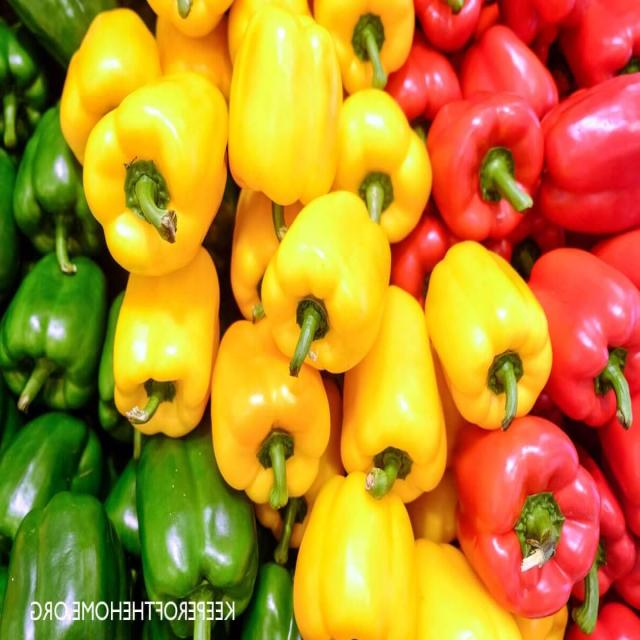Bell pepper: (461, 400, 612, 614), (219, 8, 352, 244), (108, 226, 235, 466), (423, 242, 561, 454), (260, 182, 399, 392), (135, 412, 261, 640), (332, 268, 441, 522), (100, 66, 243, 256), (206, 300, 330, 518), (283, 472, 437, 640), (528, 222, 640, 450), (5, 84, 120, 284), (422, 90, 558, 250), (330, 72, 438, 252), (1, 246, 111, 422), (535, 68, 640, 252), (0, 494, 130, 640), (315, 0, 424, 96)
